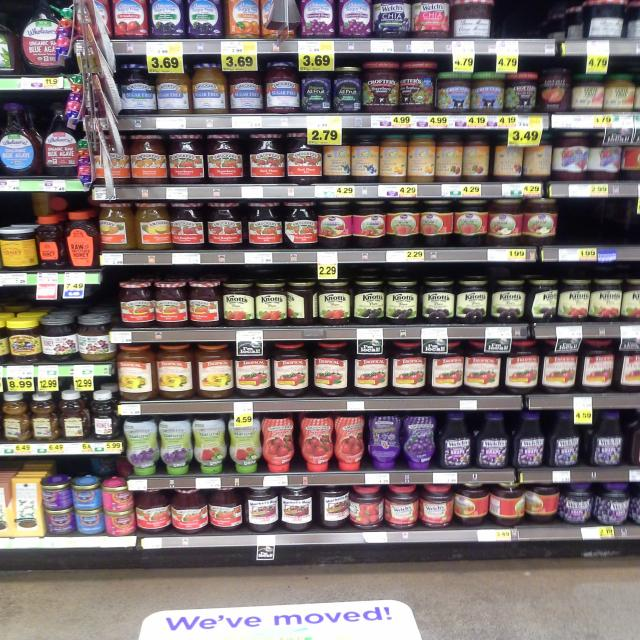100- O.O.S: (562, 202, 614, 260), (499, 4, 545, 53)
